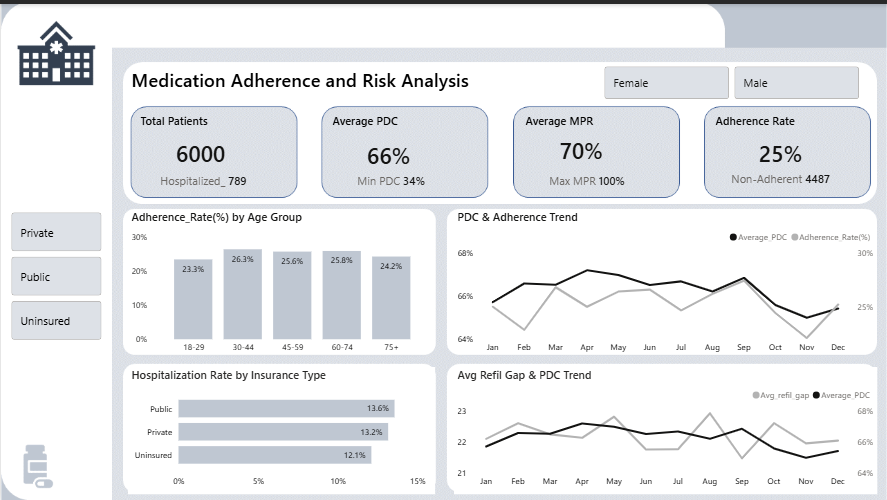

The page's visual inventory and layout, read from the dashboard file:
{"tool":"powerbi","page":{"name":"Page 1","canvas":[1280,720],"ordinal":0},"visuals":[{"type":"lineChart","title":"PDC & Adherence Trend","fields":{"Y":["medication_adherence.Average_PDC"],"Y2":["medication_adherence.Adherence_Rate(%)"],"Category":["Month_Lookup.Observation_Month"]},"box":[654.9,296.4,611.6,218.3],"z":0},{"type":"advancedSlicerVisual","fields":{"Values":["medication_adherence.Sex"]},"box":[867.5,85.3,378.8,57.8],"z":1000},{"type":"advancedSlicerVisual","fields":{"Values":["medication_adherence.Insurance_Type"]},"box":[10.1,296.4,140.2,196.6],"z":2000},{"type":"cardVisual","title":"Total Patients","fields":{"Data":["CountNonNull(medication_adherence.Patient_ID)"]},"box":[224.1,153.3,199.5,120],"z":3000},{"type":"cardVisual","title":"Adherence Rate","fields":{"Data":["medication_adherence.Adherence_Rate(%)"]},"box":[1067,169.2,140.2,89.6],"z":4000},{"type":"cardVisual","title":"Average PDC","fields":{"Data":["medication_adherence.Average_PDC"]},"box":[500.2,170.6,127.2,94],"z":5000},{"type":"clusteredColumnChart","fields":{"Y":["medication_adherence.Adherence_Rate(%)"],"Category":["medication_adherence.Age Group"]},"box":[183.6,296.4,443.9,218.3],"z":6000},{"type":"cardVisual","title":"Average MPR","fields":{"Data":["medication_adherence.Average_MPR"]},"box":[779.3,160.5,144.6,99.8],"z":7000},{"type":"lineChart","title":"Avg Refil Gap & PDC Trend","fields":{"Y":["medication_adherence.Average_Refil_Gap"],"Y2":["medication_adherence.Average_PDC"],"Category":["Month_Lookup.Observation_Month"]},"box":[654.9,524.8,611.6,183.6],"z":8000},{"type":"barChart","title":"Hospitalization Rate by Insurance Type","fields":{"Y":["medication_adherence.Hospitalization_Rate"],"Category":["medication_adherence.Insurance_Type"]},"box":[183.6,524.8,443.9,183.6],"z":9000},{"type":"textbox","box":[183.1,84.6,524.6,58.5],"z":10000},{"type":"cardVisual","fields":{"Data":["medication_adherence.Hospitalized_"]},"box":[189.4,146,234.2,150.4],"z":11000},{"type":"textbox","box":[196.6,153.3,138.8,33.3],"z":12000},{"type":"cardVisual","fields":{"Data":["medication_adherence.Min PDC"]},"box":[474.2,146,201,150.4],"z":13000},{"type":"textbox","box":[474.2,153.3,141.7,33.3],"z":14000},{"type":"textbox","box":[753.3,153.3,134.5,33.3],"z":15000},{"type":"cardVisual","fields":{"Data":["medication_adherence.Max MPR"]},"box":[751.8,146,231.3,150.4],"z":16000},{"type":"textbox","box":[1028,153.3,140.2,33.3],"z":17000},{"type":"cardVisual","fields":{"Data":["medication_adherence.Non-Adherent"]},"box":[1014.9,143.1,264.6,150.4],"z":18000}]}

Visuals, with their boxes in screenshot pixels (x1, y1, x2, y2), scaled from the page's 1280x720 canvas onto the 887x500 screenshot:
"PDC & Adherence Trend" lineChart: [left=454, top=206, right=878, bottom=357]
advancedSlicerVisual - medication_adherence.Sex: [left=601, top=59, right=864, bottom=99]
advancedSlicerVisual - medication_adherence.Insurance_Type: [left=7, top=206, right=104, bottom=342]
"Total Patients" cardVisual: [left=155, top=106, right=294, bottom=190]
"Adherence Rate" cardVisual: [left=739, top=117, right=837, bottom=180]
"Average PDC" cardVisual: [left=347, top=118, right=435, bottom=184]
clusteredColumnChart - medication_adherence.Adherence_Rate(%) x medication_adherence.Age Group: [left=127, top=206, right=435, bottom=357]
"Average MPR" cardVisual: [left=540, top=111, right=640, bottom=181]
"Avg Refil Gap & PDC Trend" lineChart: [left=454, top=364, right=878, bottom=492]
"Hospitalization Rate by Insurance Type" barChart: [left=127, top=364, right=435, bottom=492]
textbox: [left=127, top=59, right=490, bottom=99]
cardVisual - medication_adherence.Hospitalized_: [left=131, top=101, right=294, bottom=206]
textbox: [left=136, top=106, right=232, bottom=130]
cardVisual - medication_adherence.Min PDC: [left=329, top=101, right=468, bottom=206]
textbox: [left=329, top=106, right=427, bottom=130]
textbox: [left=522, top=106, right=615, bottom=130]
cardVisual - medication_adherence.Max MPR: [left=521, top=101, right=681, bottom=206]
textbox: [left=712, top=106, right=810, bottom=130]
cardVisual - medication_adherence.Non-Adherent: [left=703, top=99, right=886, bottom=204]
